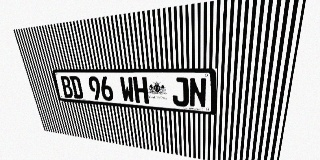6: (99, 76, 114, 101)
9: (87, 76, 103, 100)
B: (59, 76, 74, 98)
D: (69, 76, 84, 99)
H: (133, 77, 149, 104)
J: (172, 77, 189, 107)
N: (189, 77, 207, 108)
W: (119, 77, 135, 103)
